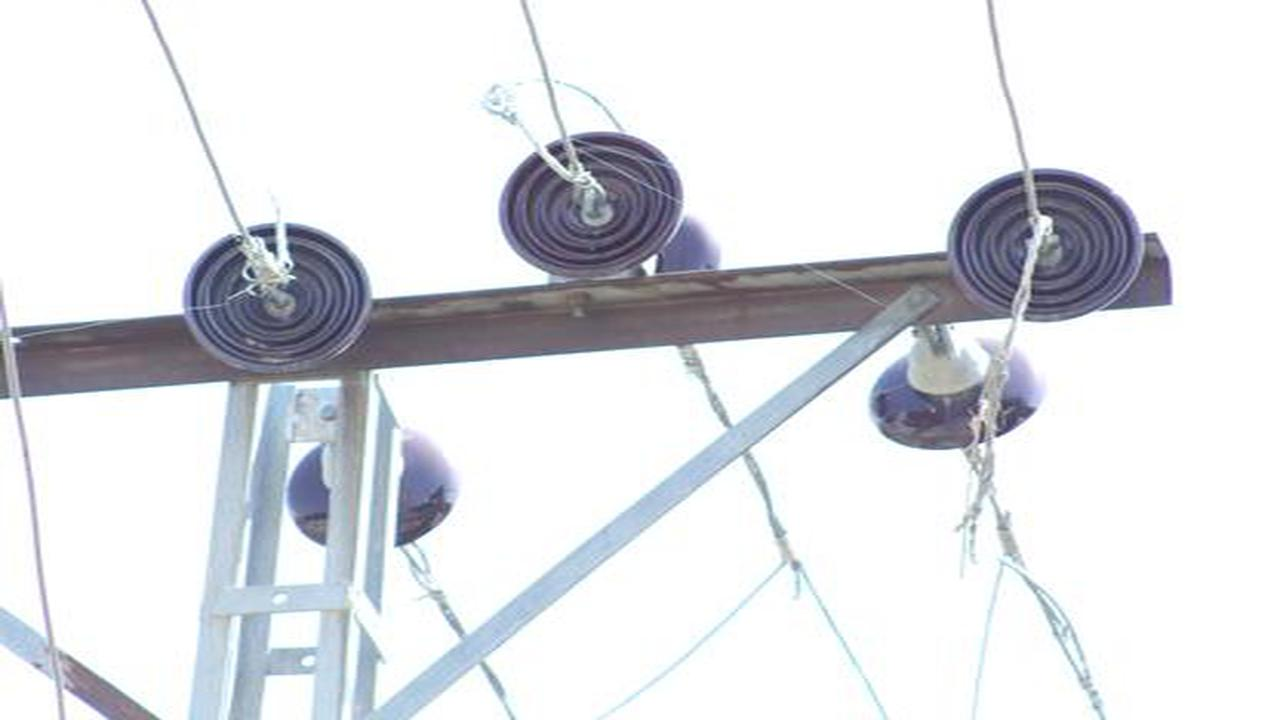insulator_disc: (943, 158, 1149, 322), (180, 218, 374, 379), (493, 125, 687, 277), (867, 318, 1041, 451)
